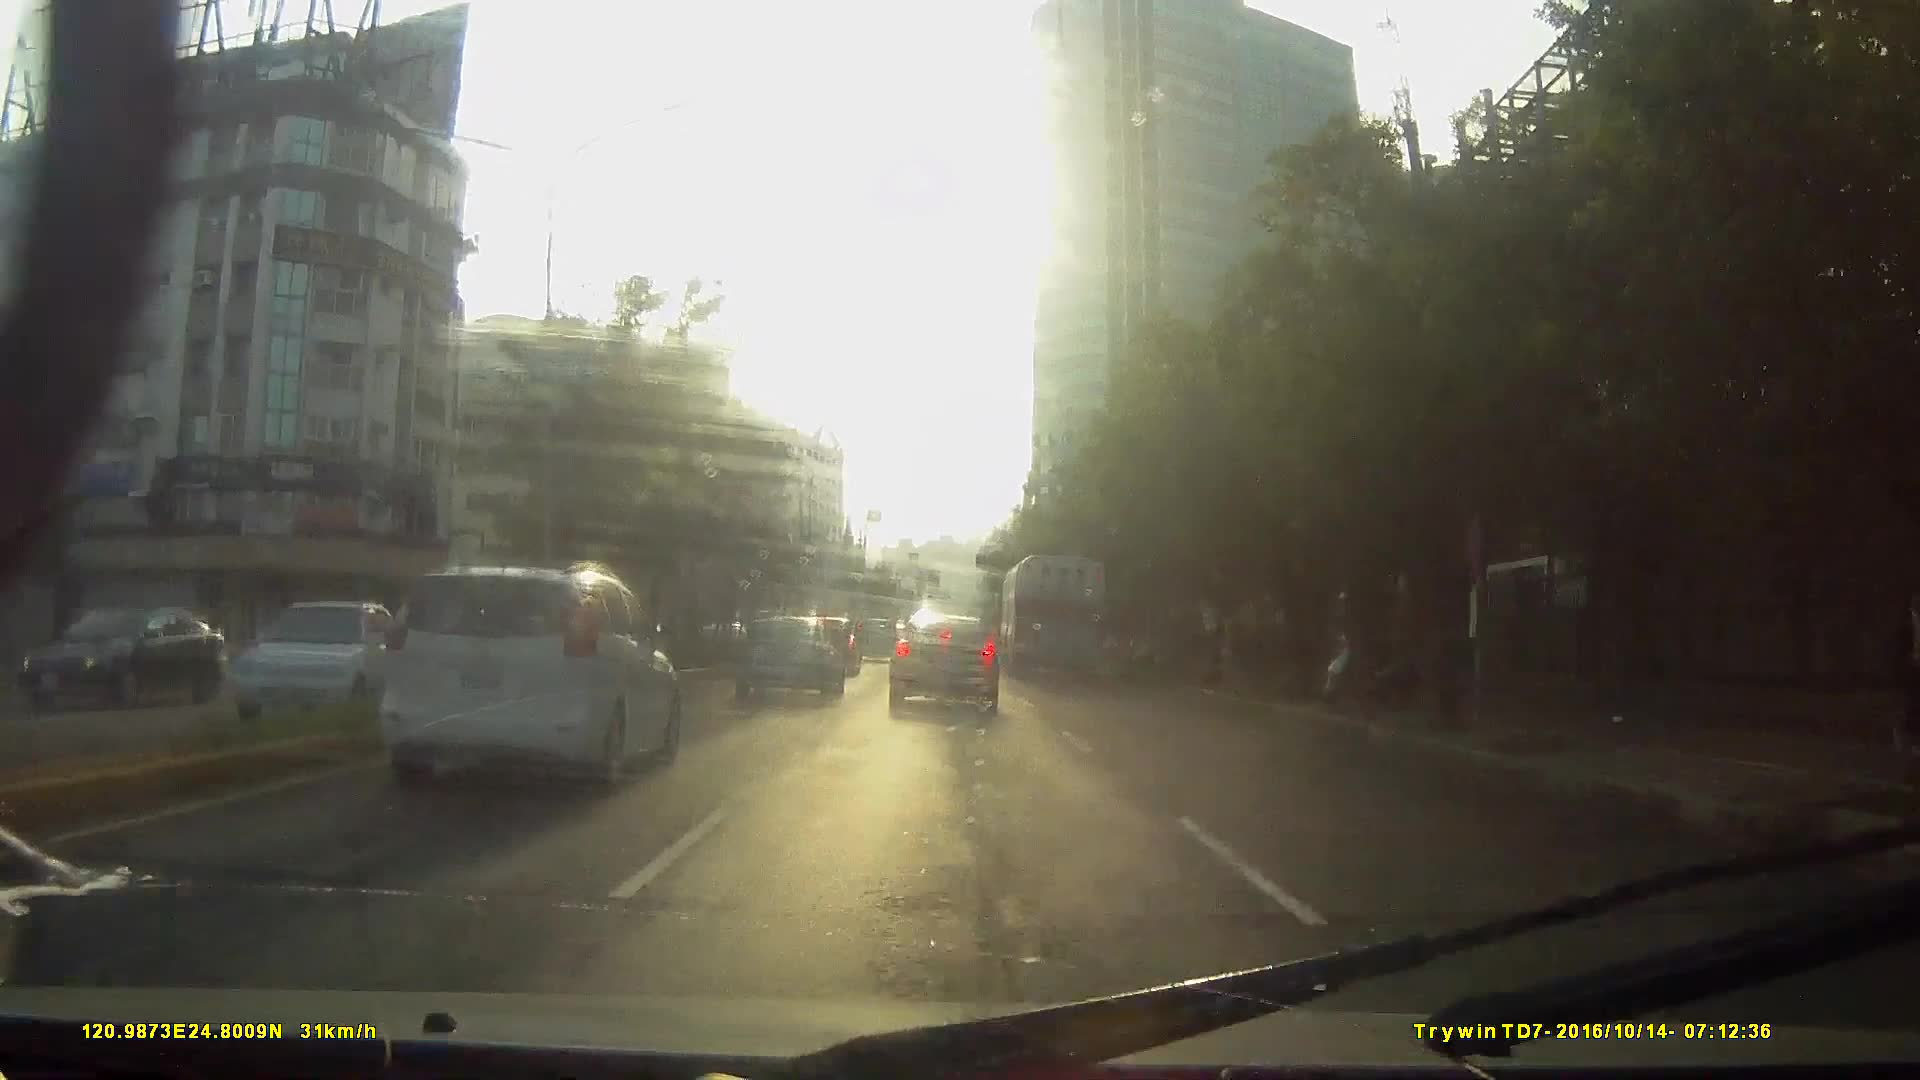vehicle: (251, 556, 684, 868), (372, 555, 678, 785), (215, 593, 431, 740), (16, 609, 216, 711), (1000, 551, 1108, 680), (884, 609, 1000, 713), (727, 611, 839, 698), (851, 615, 898, 663)
